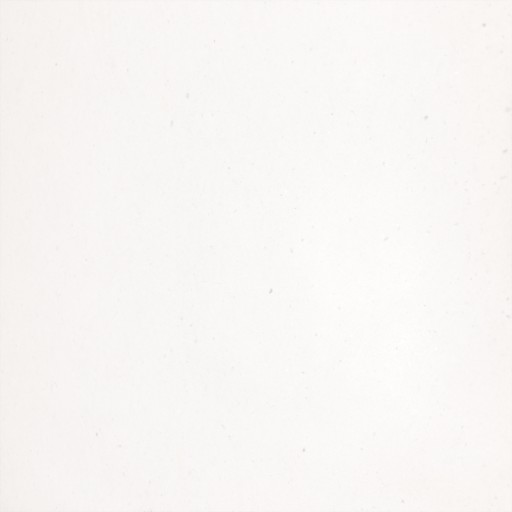lego: (213, 221, 299, 295)
